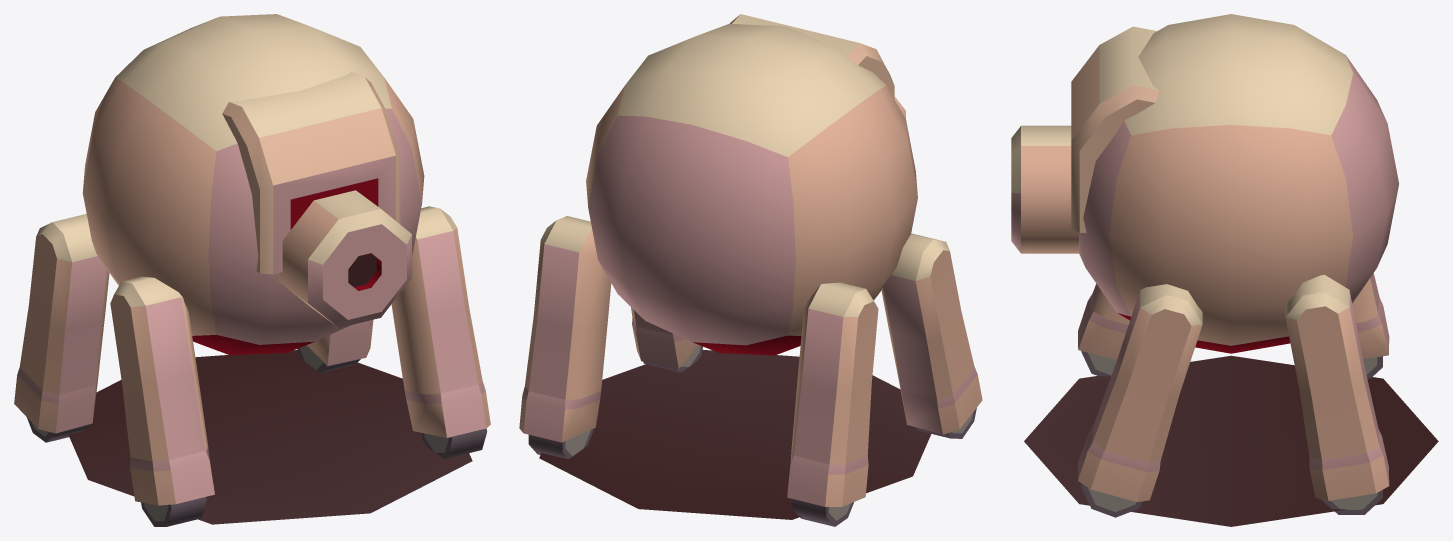
File: NeoTankMesh.WhiteNova.glb
The picture shows the model from 3 angles, left to right: view 1: azimuth 30°, elevation 25°; view 2: azimuth 150°, elevation 25°; view 3: azimuth 270°, elevation 25°; orthographic projection. The views are drawn at different scales.
Visible parts, largest first — view 1: NeoTankMesh.WhiteNova; view 2: NeoTankMesh.WhiteNova; view 3: NeoTankMesh.WhiteNova.
Part boxes in pixels (x1,y1,x2,y2): NeoTankMesh.WhiteNova: (14,14,490,526); NeoTankMesh.WhiteNova: (519,14,982,526); NeoTankMesh.WhiteNova: (1011,14,1438,526).
Bounding box in the file's own units: 2.03 × 2.26 × 2.14.
Materials: 1 (1 with a texture image).
